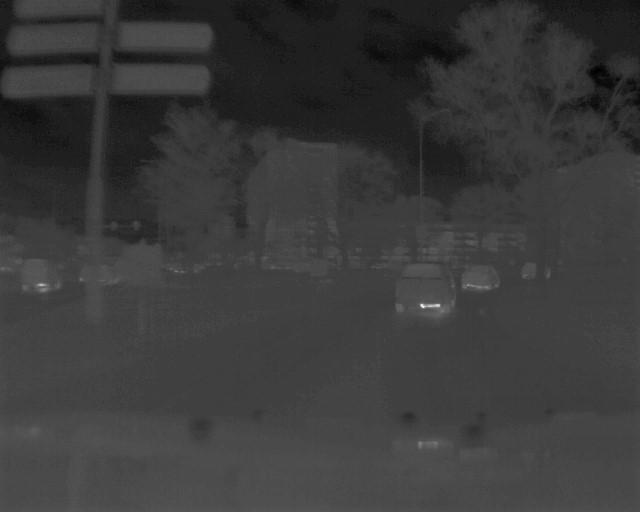car: (389, 259, 458, 313), (18, 255, 63, 295), (461, 258, 503, 293), (521, 259, 552, 283)
